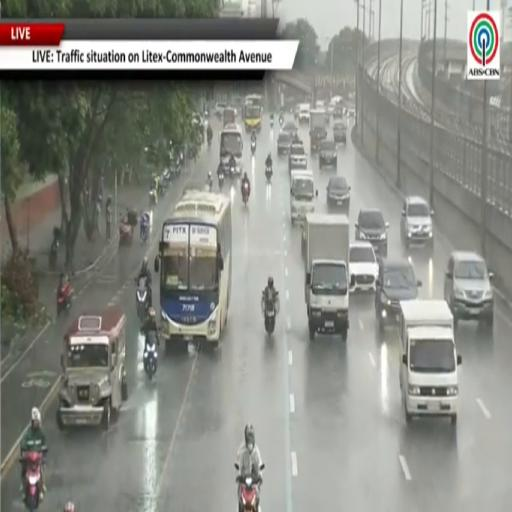bus: (155, 190, 232, 346), (220, 124, 243, 175), (243, 95, 262, 132), (245, 94, 262, 110)
car: (444, 251, 494, 330), (375, 259, 421, 329), (401, 197, 433, 248), (356, 210, 389, 257), (349, 242, 378, 291), (327, 176, 350, 210), (289, 142, 307, 172), (319, 140, 337, 169), (333, 120, 347, 145), (277, 133, 291, 155), (282, 121, 298, 137), (333, 104, 344, 119), (215, 103, 226, 118), (328, 102, 336, 115), (347, 109, 355, 119), (343, 107, 347, 116)
jeepney: (57, 307, 127, 429)
motorcycle: (20, 452, 44, 511), (237, 476, 260, 511), (143, 332, 158, 381), (262, 291, 279, 334), (137, 278, 149, 325), (57, 282, 73, 316), (49, 227, 61, 270), (119, 222, 133, 246), (49, 238, 59, 270), (141, 220, 149, 244), (242, 182, 249, 205), (149, 188, 157, 206), (265, 167, 272, 182), (218, 173, 224, 190), (251, 141, 256, 156), (207, 179, 213, 191), (230, 166, 236, 178), (207, 134, 212, 147), (279, 116, 284, 126), (270, 118, 273, 127)
truck: (399, 299, 461, 424), (304, 213, 354, 341), (310, 108, 327, 153)
